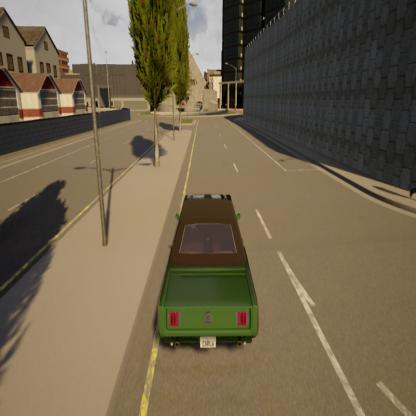Cars: (154, 182, 264, 360)
